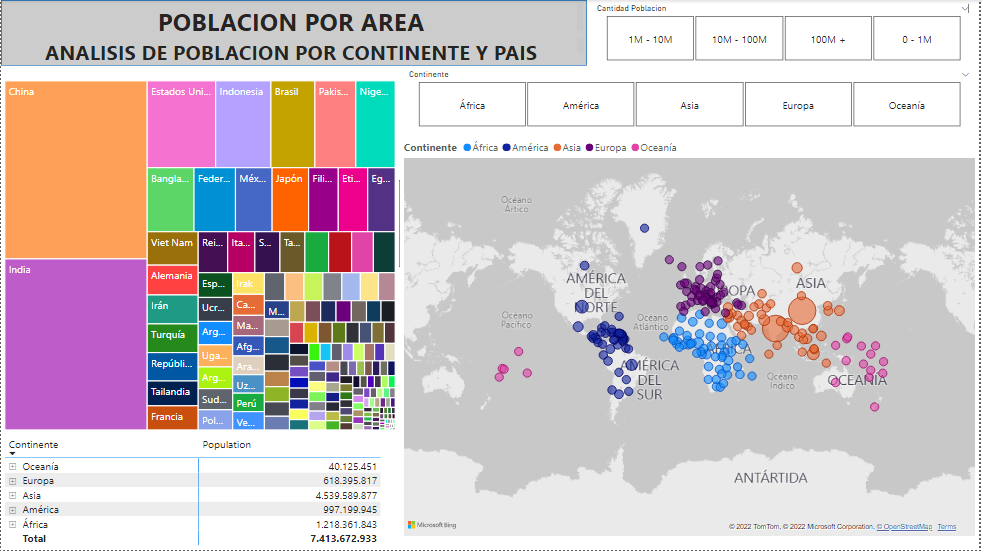

What the dashboard file says about the page in this screenshot:
{"tool":"powerbi","page":{"name":"Página 1","canvas":[1280,720],"ordinal":0},"visuals":[{"type":"shape","box":[0,0,767.4,86.4],"z":500},{"type":"shape","box":[122.8,235.1,767.4,113.7],"z":1000},{"type":"pivotTable","fields":{"Rows":["2 1 Paises csv.Continente","2 1 Paises csv.Pais"],"Values":["Sum(2 1 Population csv.Population)"]},"box":[0,567.4,506.9,152.6],"z":2000},{"type":"slicer","fields":{"Values":["2 1 Population csv.Cantidad Poblacion"]},"box":[767.1,0,513.2,86.4],"z":3000},{"type":"slicer","fields":{"Values":["2 1 Paises csv.Continente"]},"box":[521.3,86.4,758.9,86.4],"z":4000},{"type":"treemap","fields":{"Group":["2 1 Paises csv.Pais"],"Values":["Sum(2 1 Population csv.Population)"]},"box":[0,100.8,521.3,466.6],"z":5000},{"type":"map","fields":{"Category":["2 1 Paises csv.Pais"],"Size":["Sum(2 1 Population csv.Population)"],"Series":["2 1 Paises csv.Continente"]},"box":[521.7,172.9,758.3,533.8],"z":6000},{"type":"textbox","box":[0,0,767.4,56.1],"z":7000},{"type":"textbox","box":[0,44.6,767.5,41.8],"z":8000}]}

Visuals, with their boxes in screenshot pixels (x1, y1, x2, y2), scaled from the page's 1280x720 canvas onto the 982x551 screenshot:
shape: bbox=[0, 0, 589, 66]
shape: bbox=[94, 180, 683, 267]
pivotTable - 2 1 Paises csv.Continente x 2 1 Paises csv.Pais: bbox=[0, 434, 389, 550]
slicer - 2 1 Population csv.Cantidad Poblacion: bbox=[589, 0, 981, 66]
slicer - 2 1 Paises csv.Continente: bbox=[400, 66, 981, 132]
treemap - 2 1 Paises csv.Pais x Sum(2 1 Population csv.Population): bbox=[0, 77, 400, 434]
map - 2 1 Paises csv.Pais x Sum(2 1 Population csv.Population): bbox=[400, 132, 981, 541]
textbox: bbox=[0, 0, 589, 43]
textbox: bbox=[0, 34, 589, 66]
